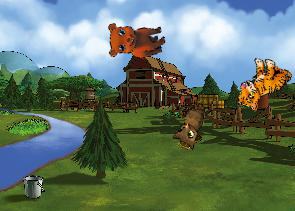bear: (103, 12, 168, 64)
owl: (171, 99, 205, 149)
tiger: (233, 52, 294, 118)
